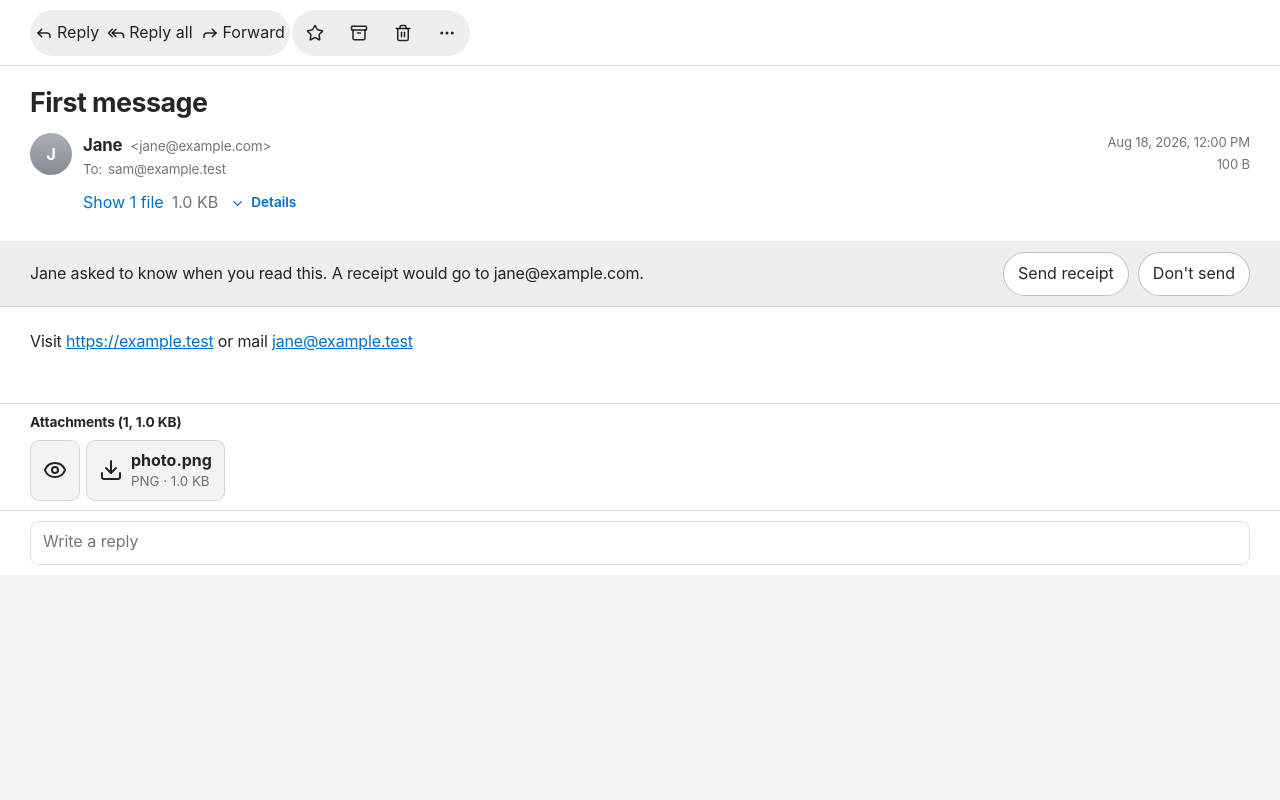
Scenario: MessageReader › asks before sending a read receipt and can decline
Expected: the text "A receipt would go to jane@example.com" is shown, [30,264,644,284]
Click the button "Don't send".
click(1194, 274)  # box [1138,252,1250,296]
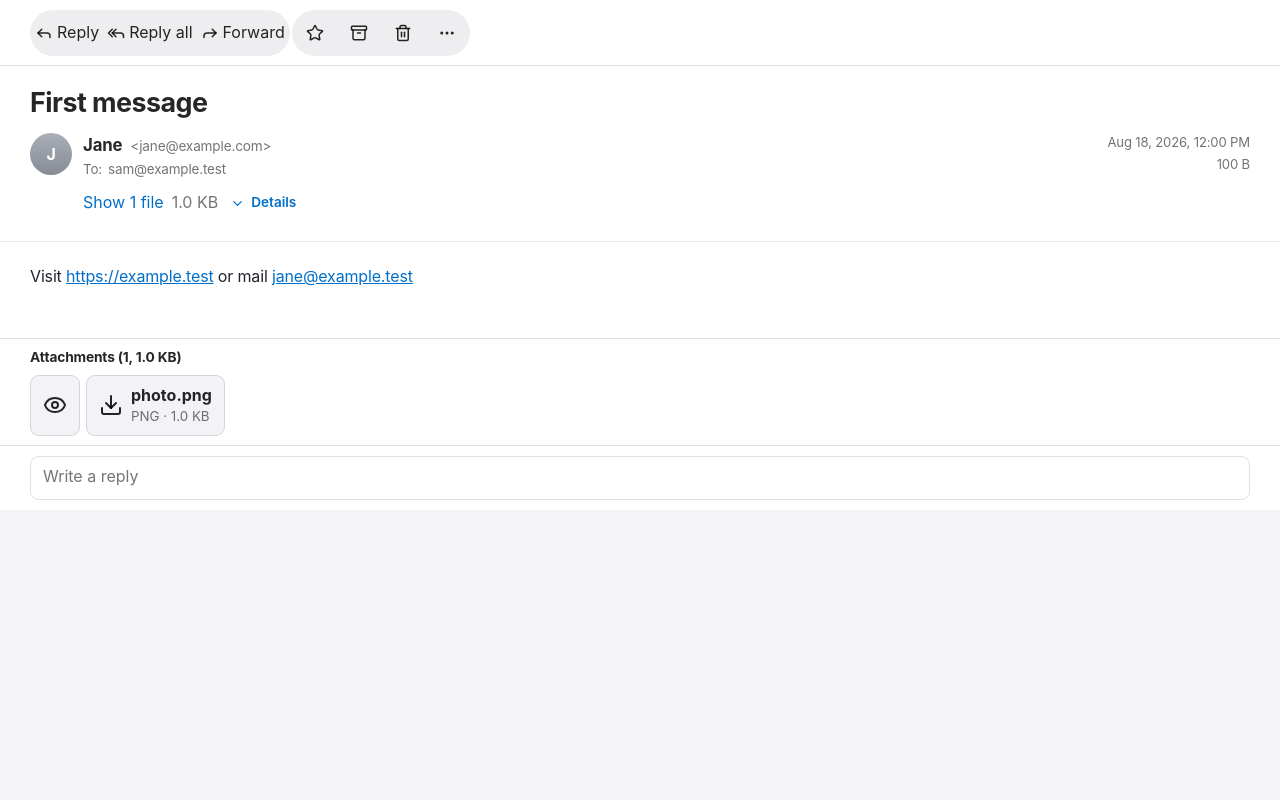
Expected: the text "A receipt would go to jane@example.com" is gone
